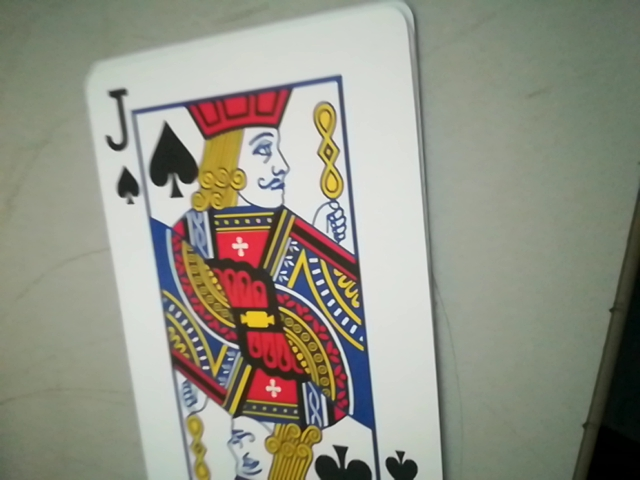ht j: (91, 81, 154, 212)
